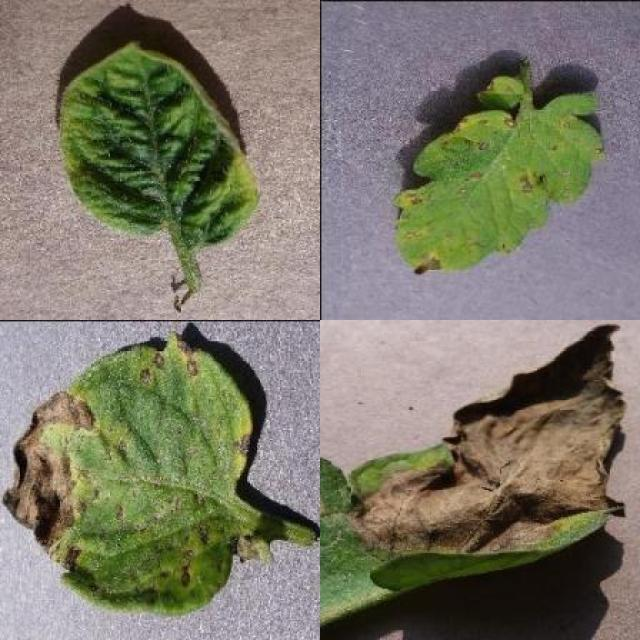Late Blight: (320, 320, 626, 624)
Septoria: (3, 327, 254, 614), (392, 92, 605, 275)
Yellow Leaf Curl Virus: (59, 42, 261, 251)
